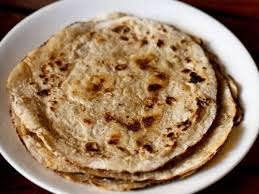roti: (22, 13, 226, 184)
